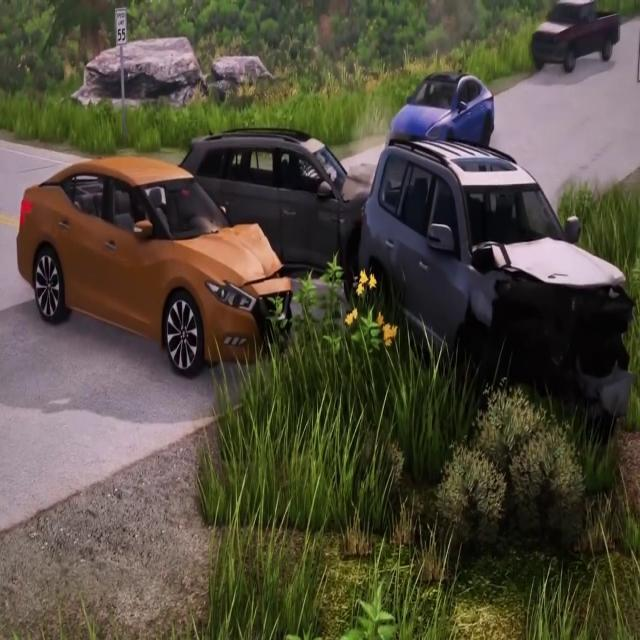accident: (15, 122, 630, 428)
